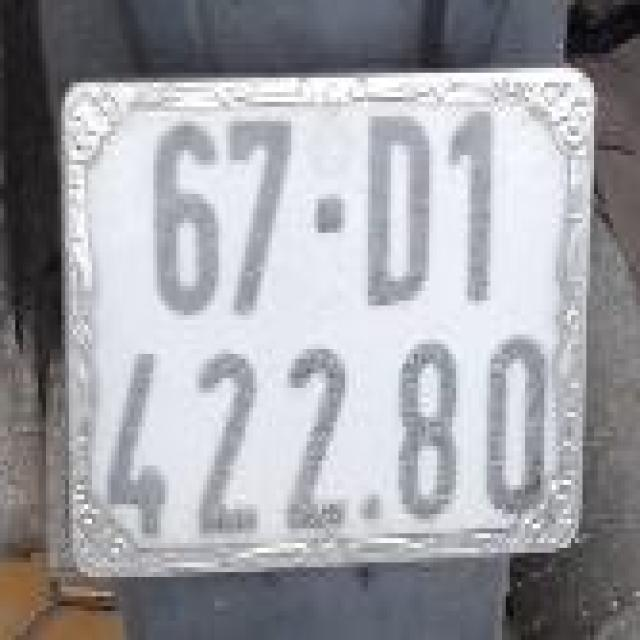0: (475, 330, 560, 543)
1: (445, 97, 521, 315)
2: (184, 334, 264, 552), (278, 327, 354, 526)
4: (100, 334, 176, 552)
6: (138, 112, 230, 320)
7: (213, 100, 301, 318)
8: (387, 327, 464, 526)
D: (348, 102, 441, 320)
